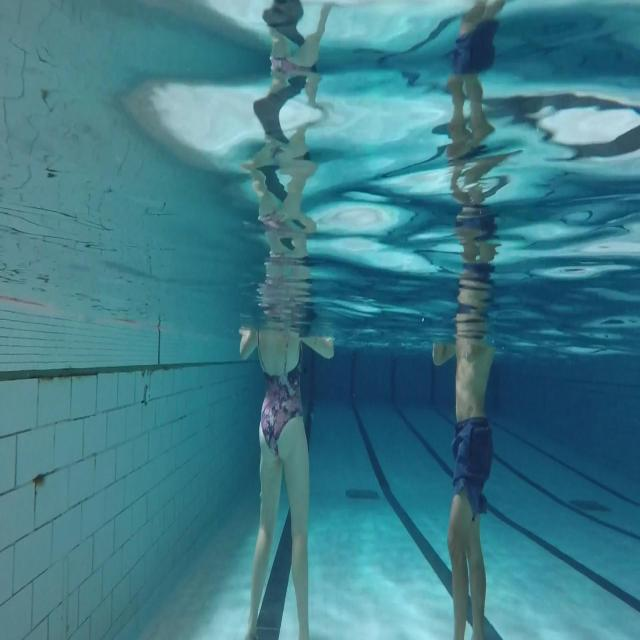human: (238, 322, 334, 638), (423, 326, 504, 640)
